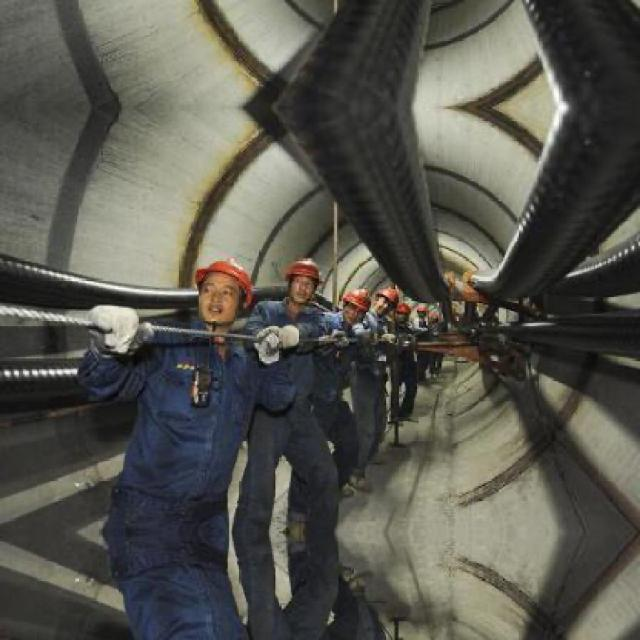con casco: (149, 254, 253, 351), (251, 254, 359, 316), (336, 278, 372, 338), (370, 293, 401, 333), (412, 289, 444, 324)
